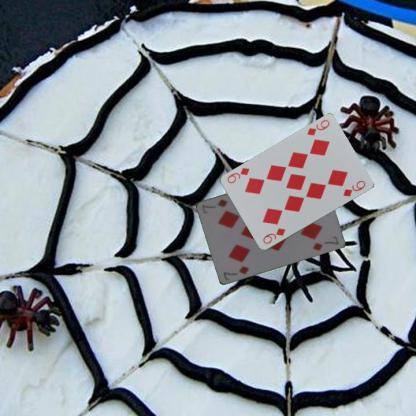7d: (220, 263, 250, 282)
9d: (305, 117, 331, 137), (260, 226, 287, 245)
